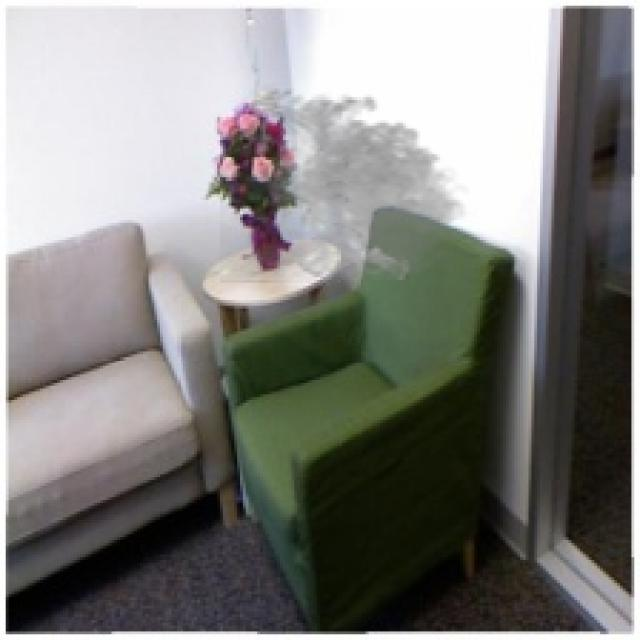smoke: (220, 83, 477, 283)
